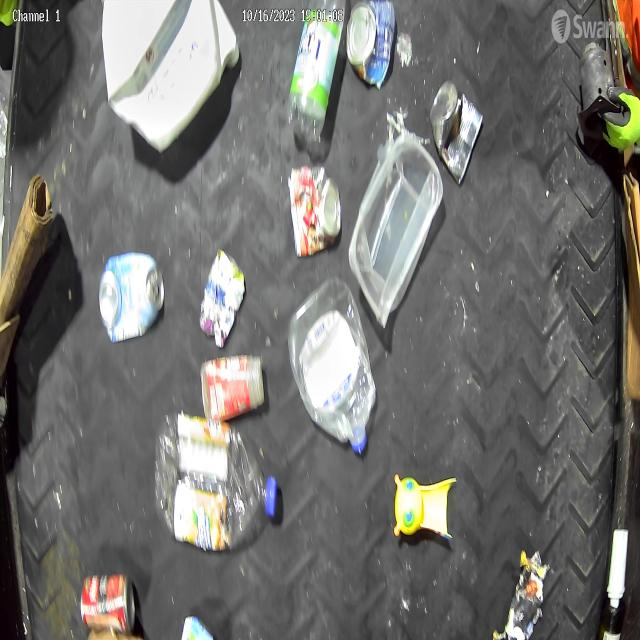can: (98, 251, 166, 342), (430, 80, 484, 186), (286, 165, 342, 258), (345, 0, 398, 89), (199, 250, 245, 346), (80, 569, 138, 634)
milk_jug: (101, 0, 241, 151)
plastic_bottle: (153, 411, 280, 546), (289, 280, 378, 453), (289, 0, 347, 146)
